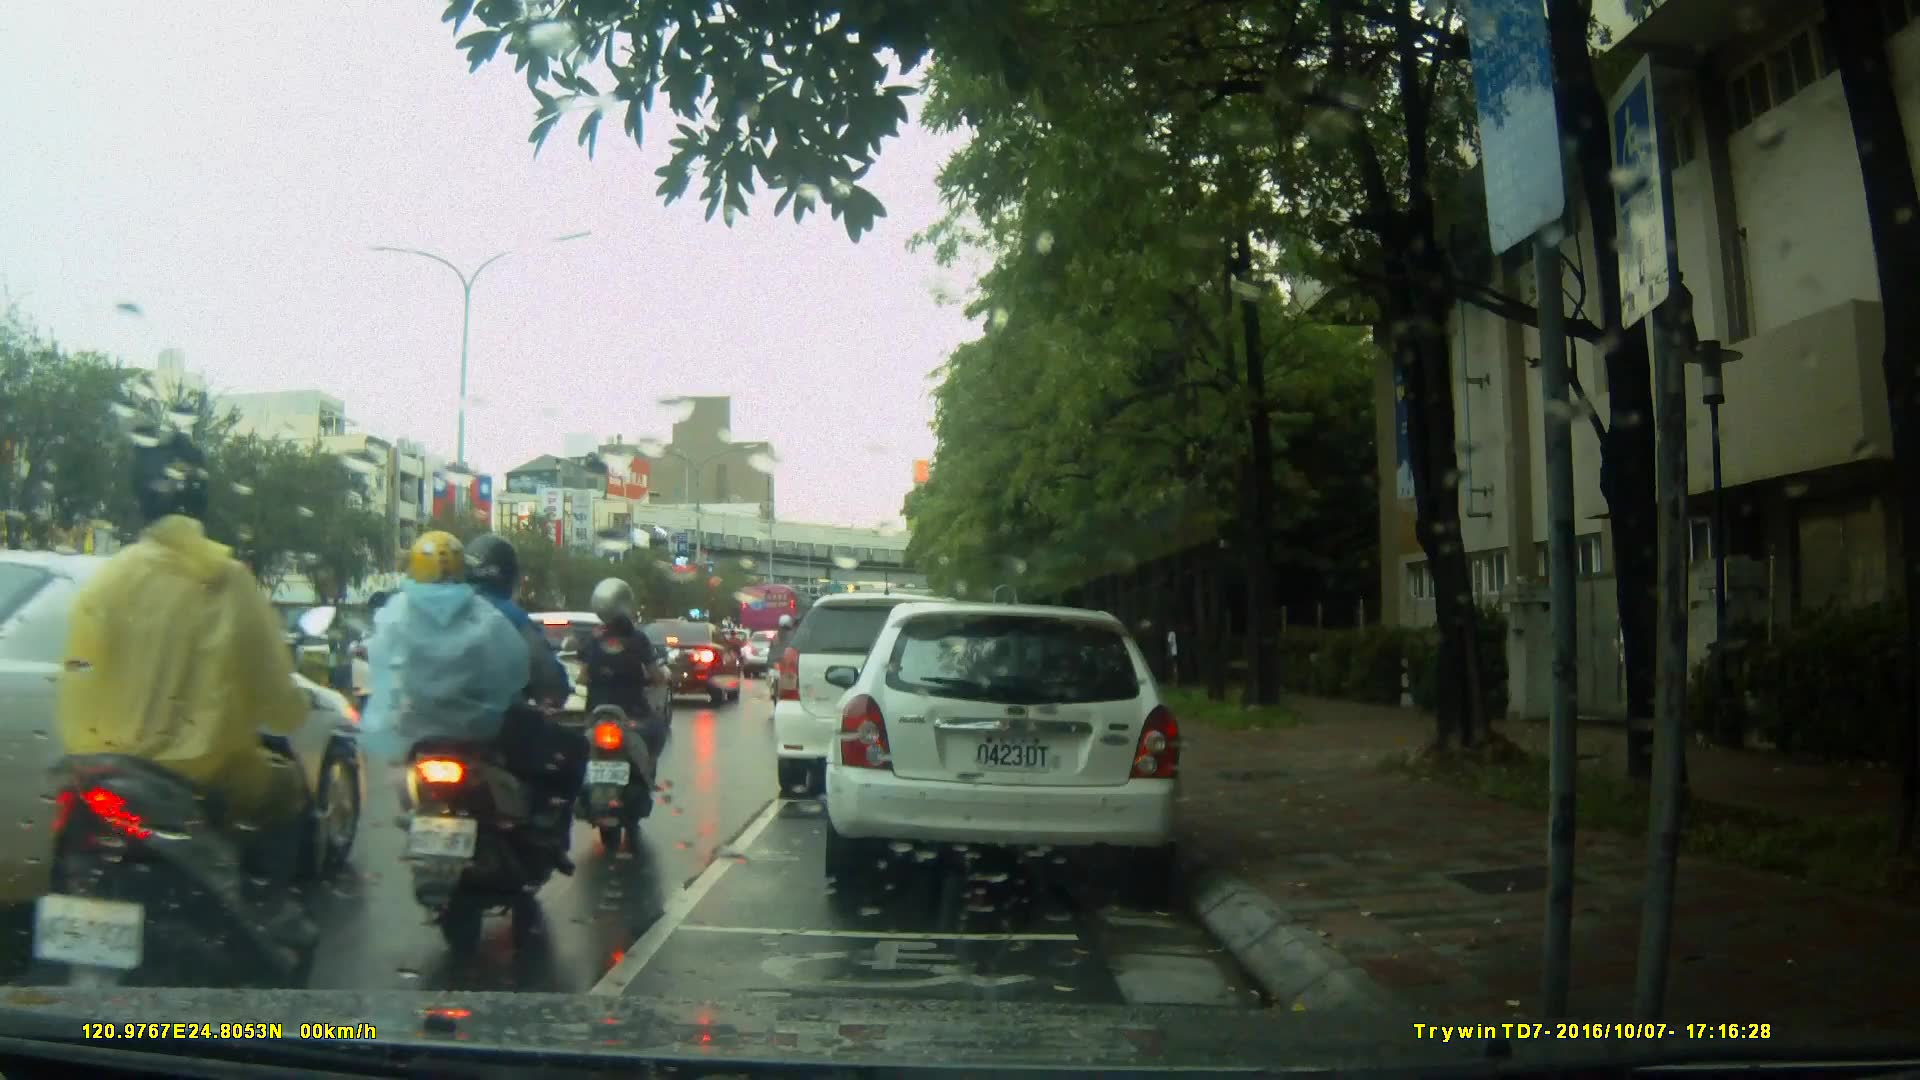rider: (57, 412, 347, 1029), (356, 528, 571, 957), (559, 577, 683, 856), (764, 612, 803, 712)
vehicle: (1, 525, 366, 922), (835, 594, 1194, 898), (776, 590, 1026, 784), (473, 608, 676, 744), (624, 621, 744, 707), (740, 583, 816, 654)
